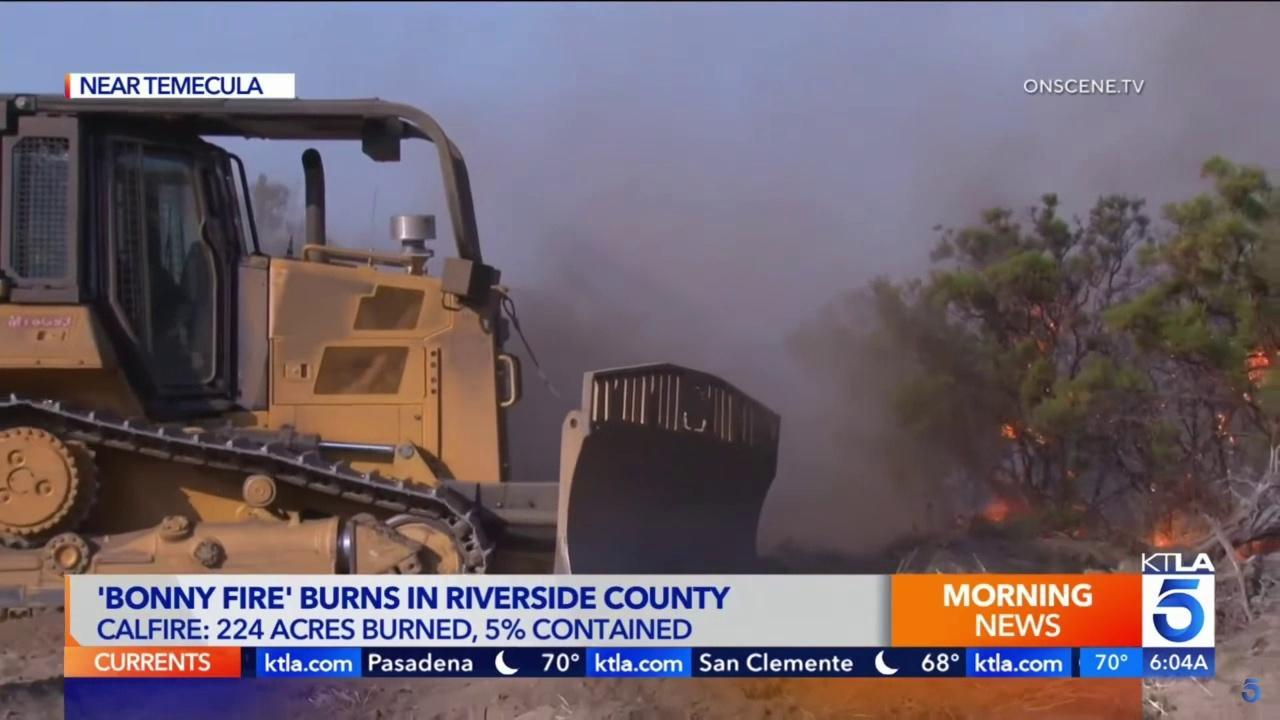fire: (1142, 472, 1213, 548), (1000, 301, 1062, 359), (1240, 340, 1280, 384), (979, 496, 1032, 527), (1231, 531, 1280, 564), (997, 416, 1020, 441), (1214, 408, 1227, 434), (1063, 468, 1079, 481), (1242, 392, 1252, 404), (1227, 435, 1236, 446)
smoke: (438, 2, 1279, 571)
